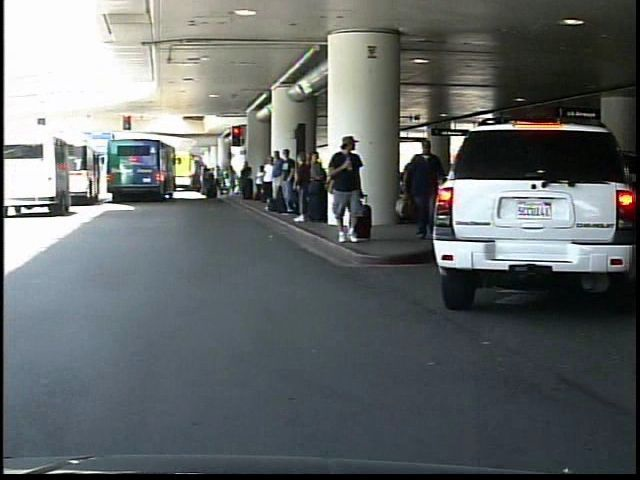person: (400, 132, 447, 247), (328, 131, 371, 246)
